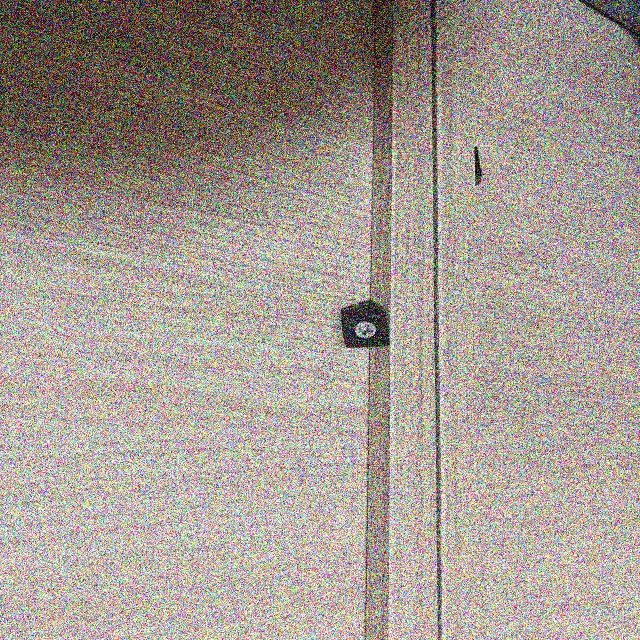pozidriv: (354, 321, 377, 338)
